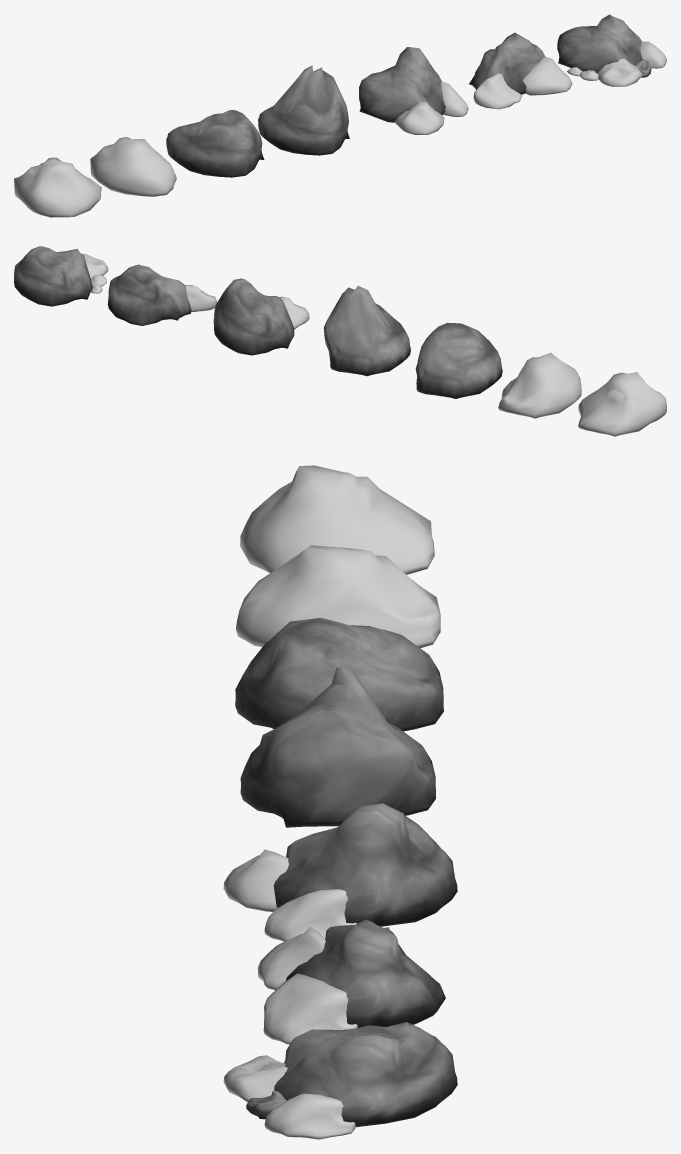
The model's file is Rocks.fbx.
3 views of the same model, one above another, from view 1: azimuth 30°, elevation 25°; view 2: azimuth 150°, elevation 25°; view 3: azimuth 270°, elevation 25° (orthographic). The views are drawn at different scales.
Visible parts, largest first — view 1: rock4, rock7, rock6, rock1, rock5, rock2, rock3; view 2: rock7, rock1, rock4, rock5, rock6, rock3, rock2; view 3: rock4, rock7, rock6, rock5, rock1, rock2, rock3.
Boxes of the visible parts, box(x1,y1,x2,y2) form: rock4: box(359, 47, 468, 134); rock7: box(258, 65, 349, 155); rock6: box(557, 14, 666, 86); rock1: box(166, 110, 264, 177); rock5: box(469, 32, 572, 109); rock2: box(90, 137, 176, 196); rock3: box(14, 157, 101, 217); rock7: box(323, 286, 410, 376); rock1: box(415, 322, 502, 398); rock4: box(213, 278, 309, 355); rock5: box(107, 264, 217, 325); rock6: box(14, 246, 108, 306); rock3: box(578, 372, 666, 436); rock2: box(498, 352, 581, 418); rock4: box(223, 803, 457, 941); rock7: box(240, 667, 435, 827); rock6: box(223, 1022, 457, 1139); rock5: box(257, 919, 445, 1044); rock1: box(235, 617, 443, 731); rock2: box(236, 545, 440, 648); rock3: box(240, 465, 434, 574).
Bounding box in the file's own units: 4625 × 499 × 738.
